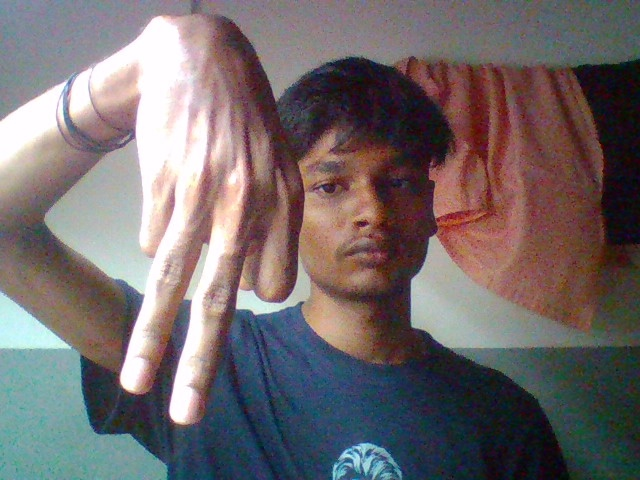N: (96, 91, 357, 453)
